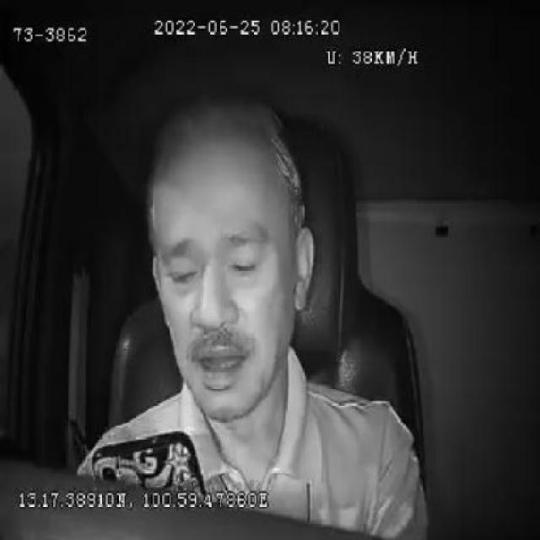phone: (91, 428, 206, 491)
